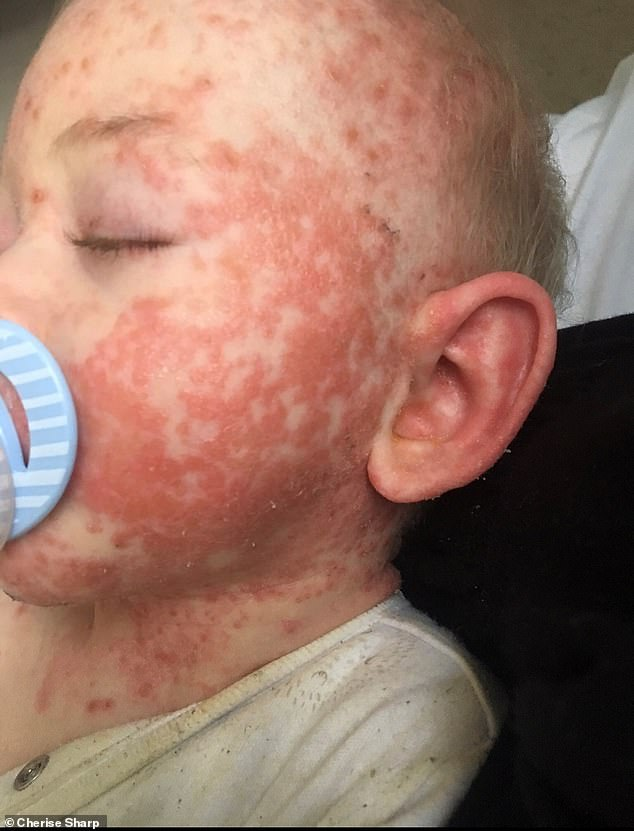Eksim: (50, 278, 424, 731), (48, 1, 475, 269)
